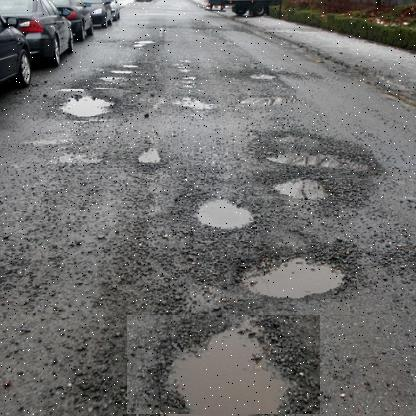pothole_water: (126, 315, 320, 415), (226, 244, 357, 300), (184, 189, 264, 237), (54, 89, 123, 122)
